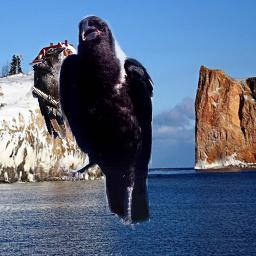Crow: (57, 14, 155, 230), (32, 46, 67, 139)
